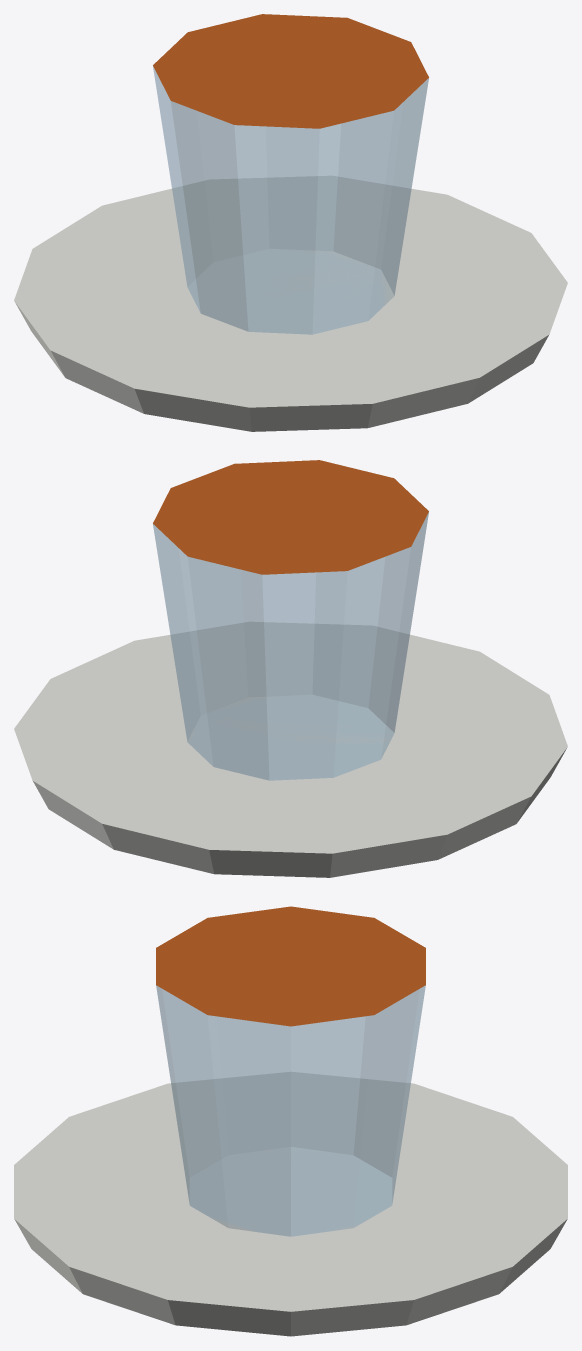
Rendered from tea_cup.obj.
The picture shows the model from 3 angles, top to bottom: view 1: azimuth 30°, elevation 25°; view 2: azimuth 150°, elevation 25°; view 3: azimuth 270°, elevation 25°; orthographic projection. The views are drawn at different scales.
Parts seen in each view (by area): view 1: tea_cup; view 2: tea_cup; view 3: tea_cup.
Boxes of the visible parts, x1,y1,x2,y2 form: tea_cup: [14, 14, 567, 431]; tea_cup: [14, 460, 567, 877]; tea_cup: [14, 906, 567, 1336].
Bounding box in the file's own units: 0.16 × 0.08 × 0.156.
